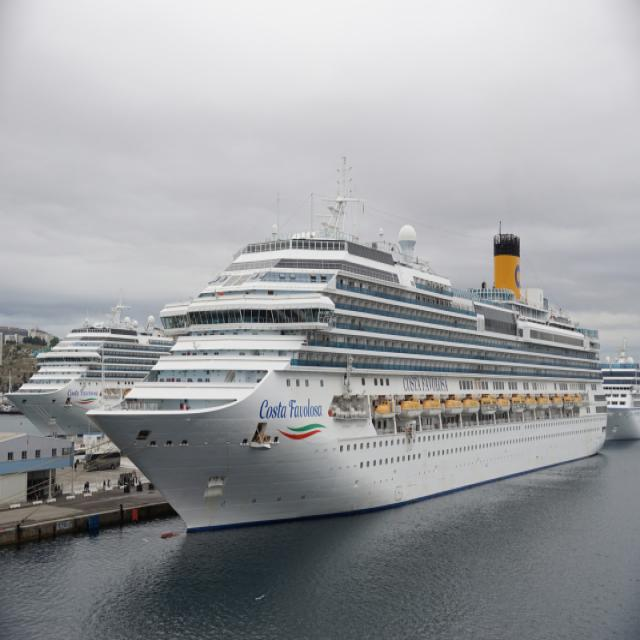cruises: (85, 151, 615, 544)
